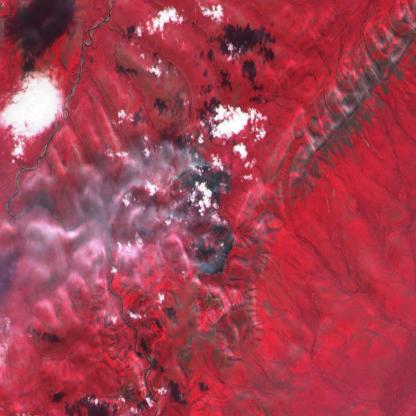fire: (172, 150, 235, 281)
